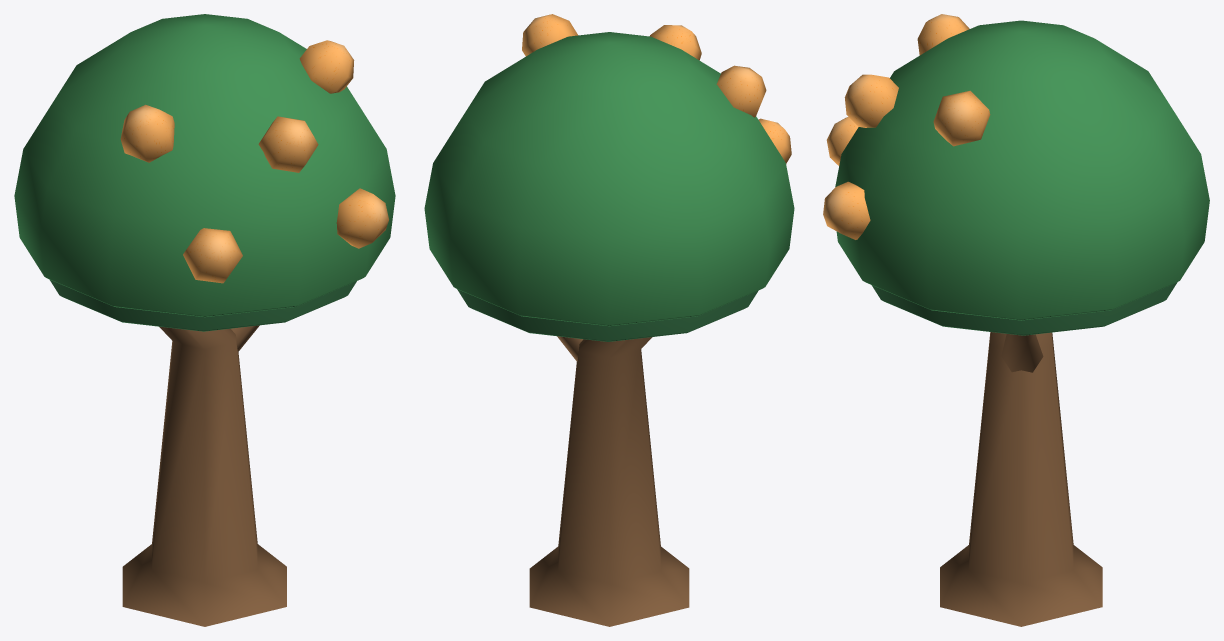
File: tree_orange.fbx
The picture shows the model from 3 angles, left to right: view 1: azimuth 30°, elevation 25°; view 2: azimuth 150°, elevation 25°; view 3: azimuth 270°, elevation 25°; orthographic projection. The views are drawn at different scales.
Parts seen in each view (by area): view 1: tree_fruit, orange, orange1, orange2, orange3, orange4; view 2: tree_fruit, orange, orange4, orange2, orange1; view 3: tree_fruit, orange4, orange2, orange3, orange, orange1.
Part boxes in pixels (bbox=[...]): tree_fruit: bbox=[14, 14, 395, 626]; orange: bbox=[120, 104, 174, 162]; orange1: bbox=[183, 228, 242, 283]; orange2: bbox=[258, 116, 318, 172]; orange3: bbox=[336, 188, 388, 248]; orange4: bbox=[299, 40, 354, 93]; tree_fruit: bbox=[424, 32, 794, 626]; orange: bbox=[716, 65, 766, 117]; orange4: bbox=[522, 14, 577, 56]; orange2: bbox=[649, 25, 701, 60]; orange1: bbox=[758, 118, 791, 163]; tree_fruit: bbox=[835, 20, 1209, 626]; orange4: bbox=[933, 90, 990, 146]; orange2: bbox=[844, 74, 898, 127]; orange3: bbox=[823, 181, 870, 239]; orange: bbox=[917, 14, 969, 55]; orange1: bbox=[826, 117, 858, 165].
Size of the model in its own units: 4.06 by 6.59 by 4.16.
